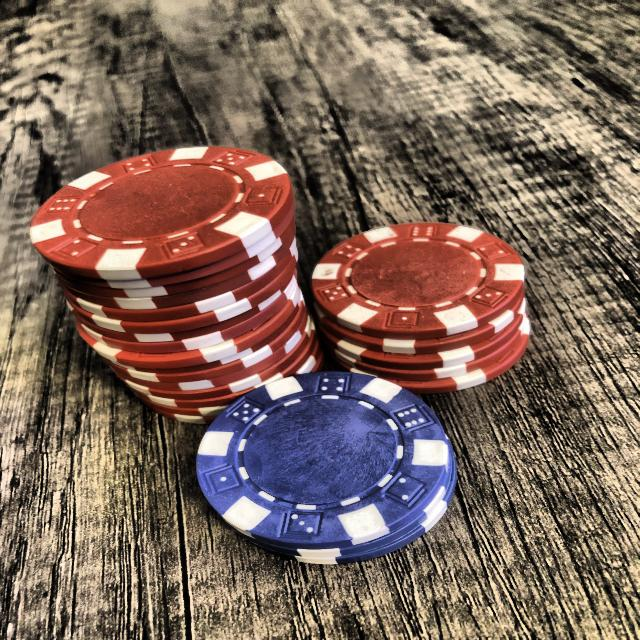Chip: (10, 132, 345, 427), (177, 372, 476, 569), (305, 196, 543, 401)
